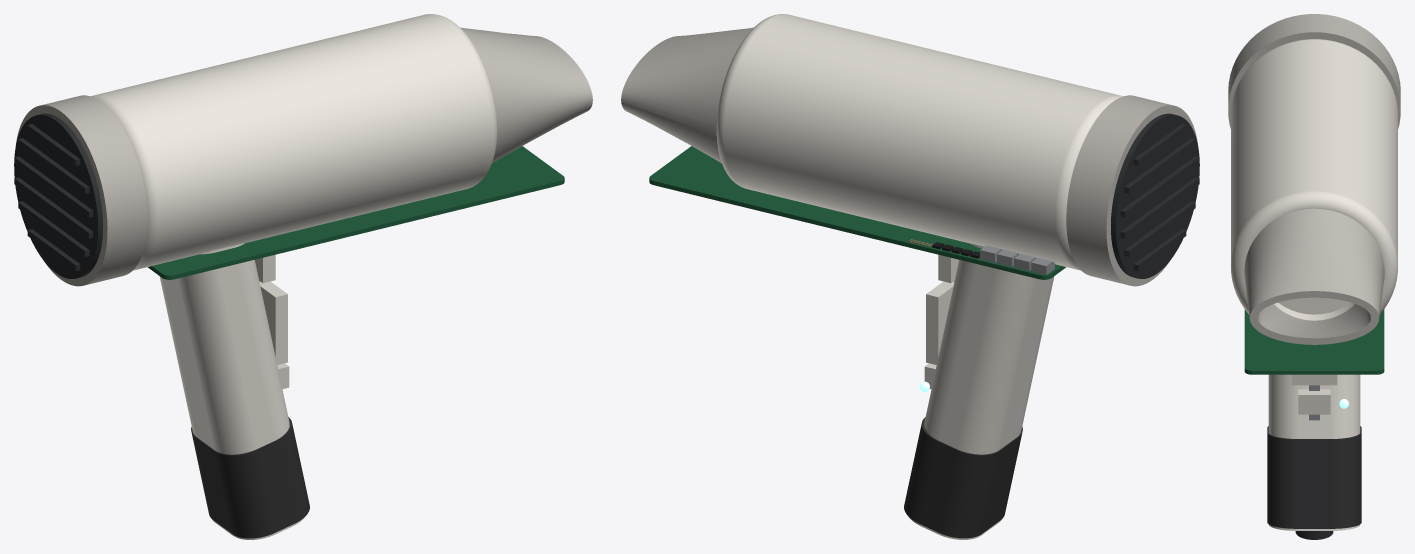
File: anatomy_v1.glb
3 views of the same model, side by side, from view 1: azimuth 30°, elevation 25°; view 2: azimuth 150°, elevation 25°; view 3: azimuth 270°, elevation 25° (orthographic). The views are drawn at different scales.
Visible parts, largest first — view 1: body.1, body.2, accent.1, accent.2, pcb.1, rubber.1, coat.1, coat.2, button.1; view 2: body.1, body.2, accent.1, accent.2, rubber.1, pcb.1, coat.1, coat.2, button.1; view 3: body.1, accent.1, rubber.1, pcb.1, accent.2, body.2, button.3, button.1, rubber.2.
Boxes of the visible parts, <box> form: body.1: <box>91,14,497,270</box>; body.2: <box>159,243,305,539</box>; accent.1: <box>460,27,592,162</box>; accent.2: <box>15,95,147,286</box>; pcb.1: <box>148,146,564,279</box>; rubber.1: <box>191,417,309,538</box>; coat.1: <box>14,113,103,278</box>; coat.2: <box>14,124,93,270</box>; button.1: <box>259,281,287,364</box>; body.1: <box>716,14,1122,270</box>; body.2: <box>908,243,1054,539</box>; accent.1: <box>621,27,753,162</box>; accent.2: <box>1066,95,1198,286</box>; rubber.1: <box>904,417,1022,538</box>; pcb.1: <box>649,146,1065,279</box>; coat.1: <box>1110,113,1199,278</box>; coat.2: <box>1120,124,1199,270</box>; button.1: <box>926,281,954,364</box>; body.1: <box>1231,39,1397,320</box>; accent.1: <box>1244,208,1384,344</box>; rubber.1: <box>1267,426,1361,528</box>; pcb.1: <box>1244,309,1384,374</box>; accent.2: <box>1228,14,1400,128</box>; body.2: <box>1268,374,1360,530</box>; button.3: <box>1298,389,1330,414</box>; button.1: <box>1291,374,1337,385</box>; rubber.2: <box>1295,531,1333,539</box>.
Bounding box in the file's own units: 0.2018 × 0.175 × 0.064.
